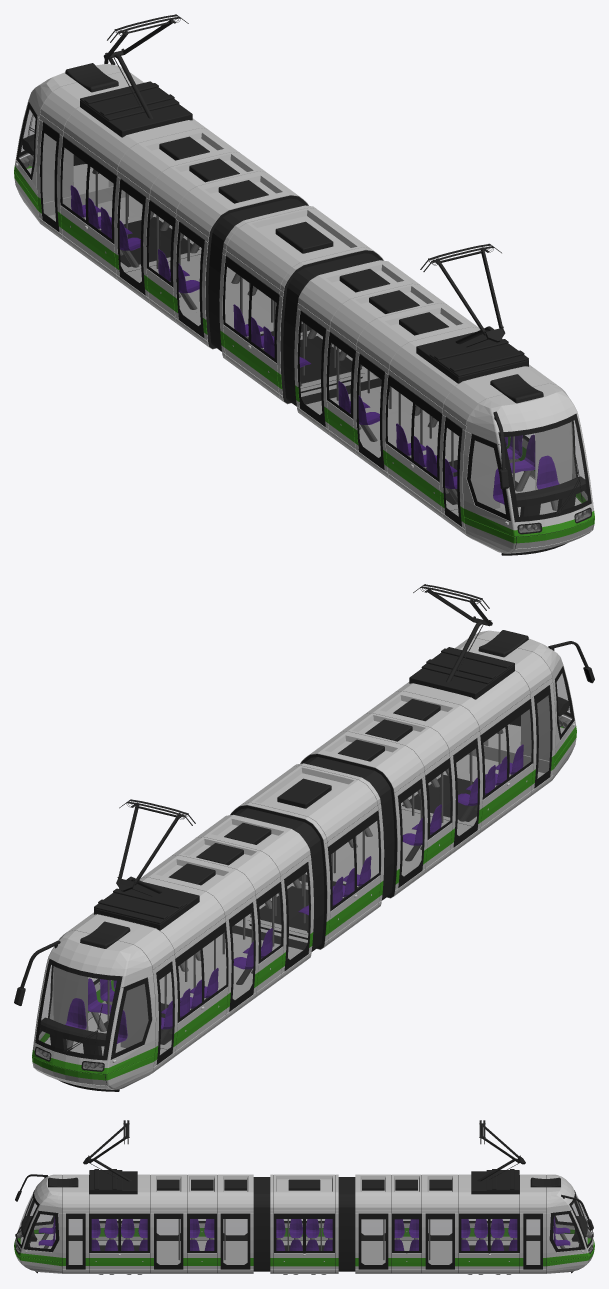
The picture shows the model from 3 angles, top to bottom: view 1: azimuth 30°, elevation 25°; view 2: azimuth 150°, elevation 25°; view 3: azimuth 270°, elevation 25°; orthographic projection. The views are drawn at different scales.
Parts seen in each view (by area): view 1: Archmodels, Archmodel0, Archmodel5, Archmodel1, Archmodel3, Archmodel4, Archmodel2; view 2: Archmodels, Archmodel0, Archmodel5, Archmodel1, Archmodel3, Archmodel4, Archmodel2; view 3: Archmodels, Archmodel0, Archmodel1, Archmodel5, Archmodel3, Archmodel4, Archmodel2.
Part boxes in pixels (bbox=[...]): Archmodels: bbox=[14, 64, 594, 553]; Archmodel0: bbox=[19, 109, 590, 532]; Archmodel5: bbox=[20, 14, 592, 555]; Archmodel1: bbox=[16, 102, 591, 534]; Archmodel3: bbox=[70, 169, 559, 510]; Archmodel4: bbox=[205, 195, 383, 406]; Archmodel2: bbox=[20, 154, 590, 532]; Archmodels: bbox=[32, 630, 576, 1089]; Archmodel0: bbox=[36, 672, 572, 1070]; Archmodel5: bbox=[14, 584, 594, 1091]; Archmodel1: bbox=[34, 666, 574, 1071]; Archmodel3: bbox=[65, 729, 523, 1049]; Archmodel4: bbox=[230, 754, 397, 951]; Archmodel2: bbox=[35, 715, 571, 1070]; Archmodels: bbox=[14, 1174, 594, 1273]; Archmodel0: bbox=[16, 1193, 592, 1264]; Archmodel1: bbox=[15, 1190, 593, 1269]; Archmodel5: bbox=[15, 1120, 593, 1274]; Archmodel3: bbox=[38, 1216, 570, 1250]; Archmodel4: bbox=[253, 1177, 355, 1271]; Archmodel2: bbox=[16, 1219, 592, 1260].
Bounding box in the file's own units: 88.24 × 181 × 698.
